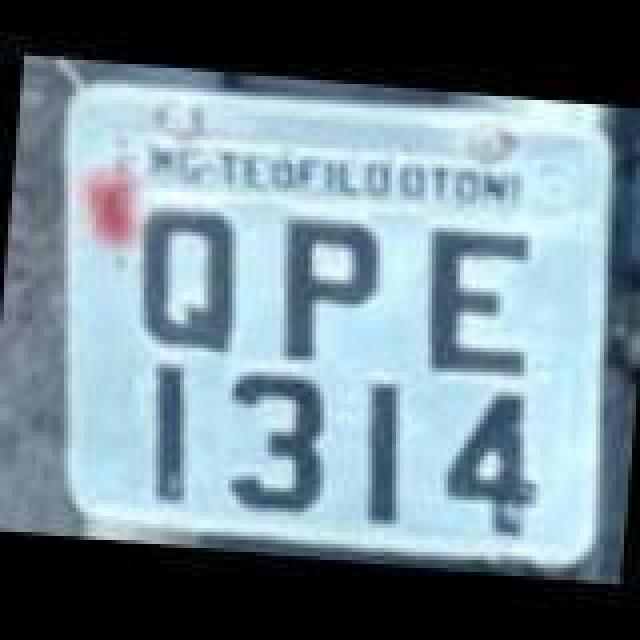1: (346, 376, 414, 528), (142, 358, 210, 506)
3: (216, 364, 336, 516)
4: (438, 378, 546, 534)
E: (412, 224, 540, 384)
P: (264, 214, 384, 362)
Q: (130, 202, 246, 358)
